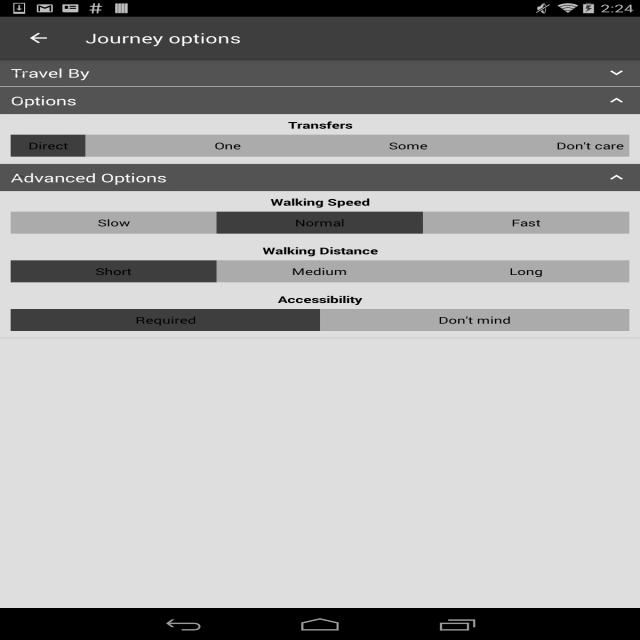ImageButton: (9, 17, 68, 59)
ImageView: (603, 64, 640, 80), (603, 92, 640, 108), (603, 169, 640, 185)
RadioButton: (11, 309, 320, 331), (320, 309, 629, 331), (216, 212, 423, 234), (216, 260, 423, 282), (10, 212, 216, 234), (423, 212, 629, 234), (10, 260, 216, 282), (423, 260, 629, 282), (551, 134, 629, 156), (190, 134, 265, 156), (11, 134, 85, 156), (371, 134, 445, 156)
TextView: (11, 114, 629, 134), (11, 192, 629, 212), (11, 240, 629, 260), (11, 289, 629, 309), (0, 92, 604, 109), (0, 169, 604, 186), (0, 65, 604, 81), (85, 29, 241, 47)
